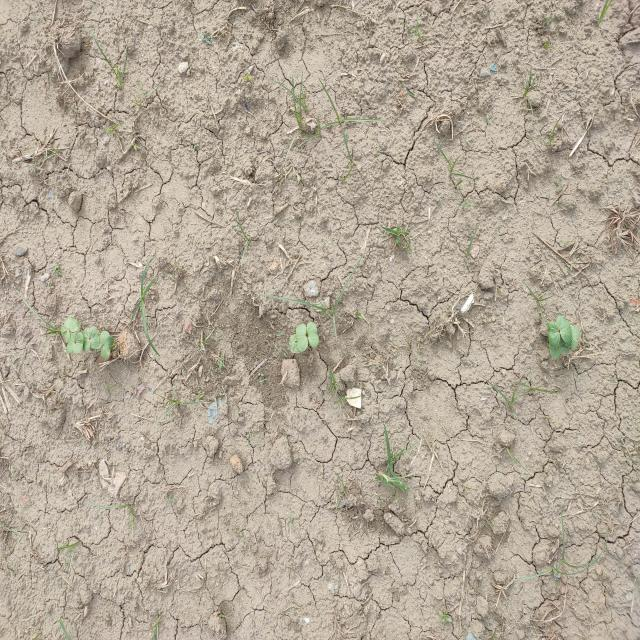seedling_s2: (556, 315, 572, 343), (547, 321, 560, 347), (296, 324, 308, 352), (101, 335, 114, 360), (95, 330, 110, 350), (307, 322, 319, 347), (64, 316, 80, 332), (560, 335, 578, 348), (89, 326, 99, 349), (73, 332, 83, 354), (66, 332, 76, 354), (82, 327, 91, 351), (549, 342, 560, 359), (558, 339, 569, 356), (61, 324, 70, 344), (289, 341, 301, 354), (570, 325, 581, 339), (290, 334, 297, 343)
